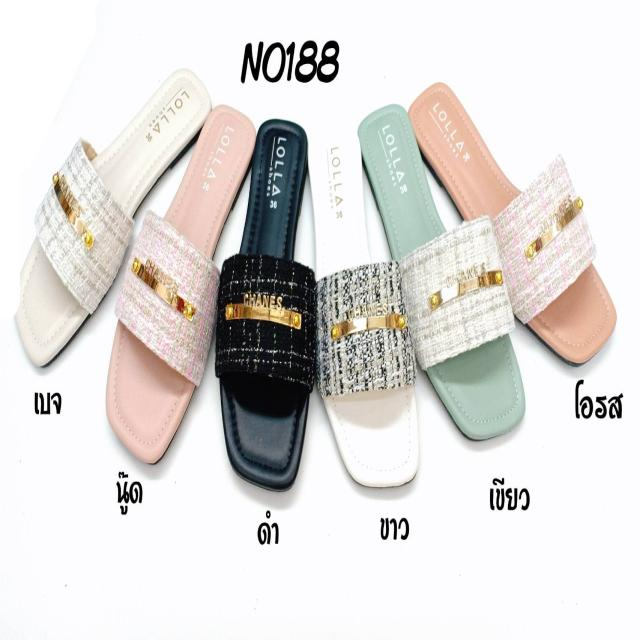bej: (16, 56, 214, 373)
black: (220, 115, 310, 486)
green: (358, 103, 526, 441)
nood: (106, 103, 253, 458)
orot: (402, 89, 616, 368)
white: (306, 124, 424, 486)
